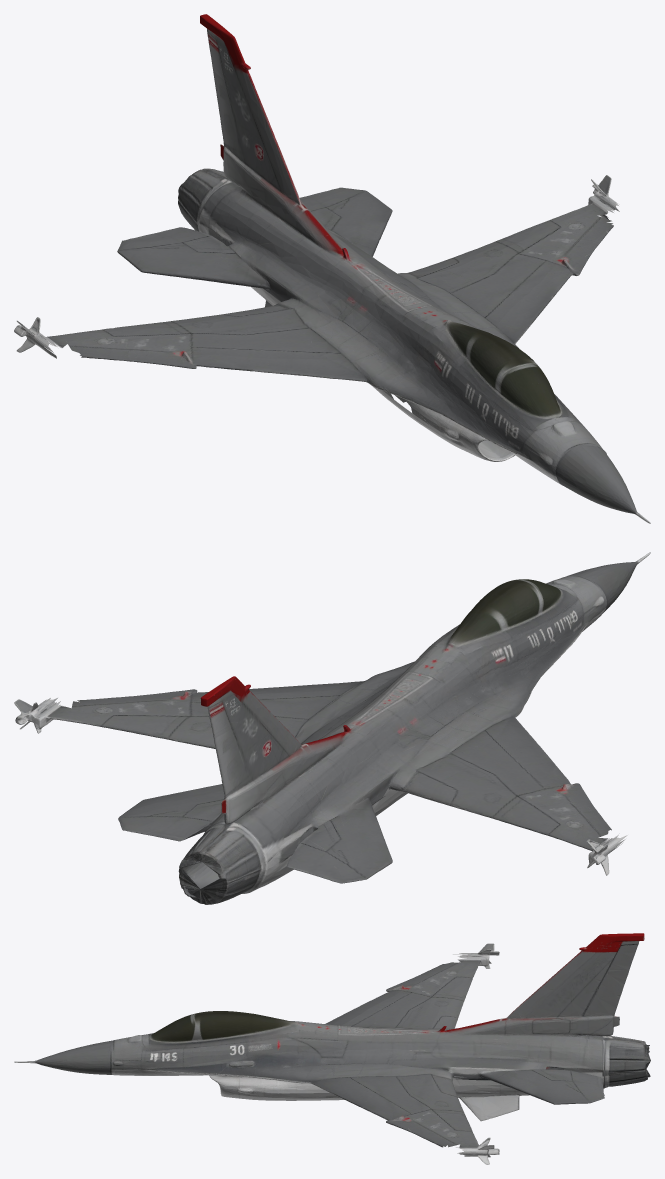
3 views of the same model, one above another, from view 1: azimuth 30°, elevation 25°; view 2: azimuth 150°, elevation 25°; view 3: azimuth 270°, elevation 25° (orthographic). The views are drawn at different scales.
Bounding box in the file's own units: 1.44 × 0.5795 × 1.9.
1 material, 1 textured.
